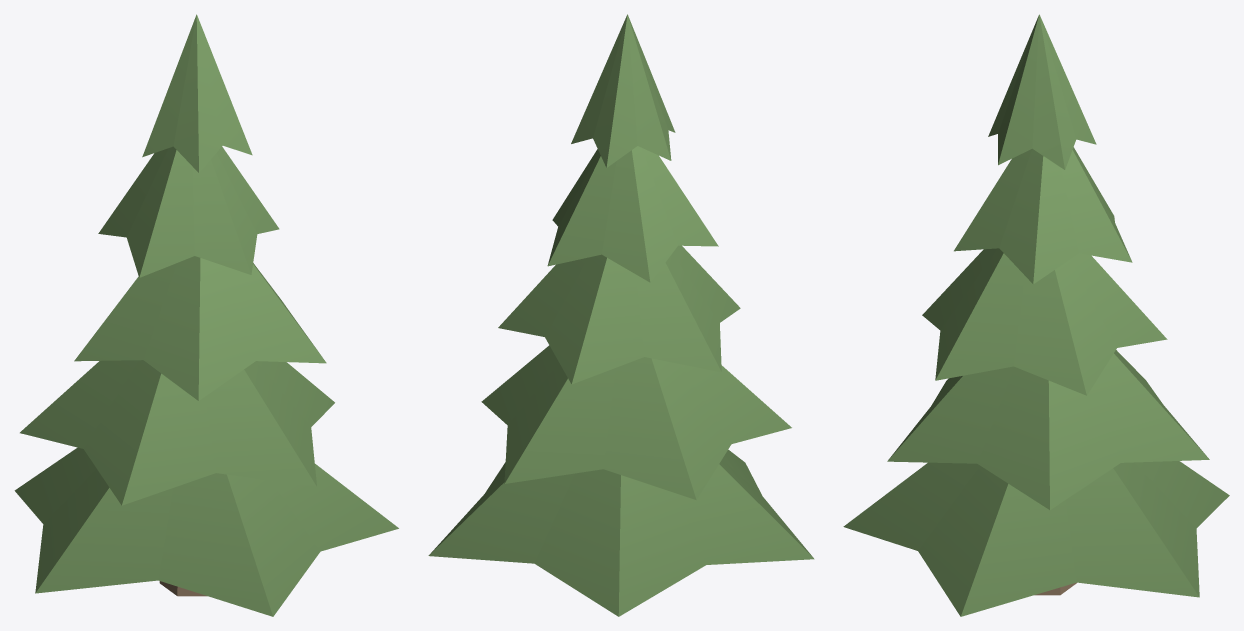
The model's file is tree_pine_2.glb.
3 views of the same model, side by side, from view 1: azimuth 30°, elevation 25°; view 2: azimuth 150°, elevation 25°; view 3: azimuth 270°, elevation 25° (orthographic). The views are drawn at different scales.
Visible parts, largest first — view 1: copa; view 2: copa; view 3: copa.
Boxes of the visible parts, box(x1,y1,x2,y2) form: copa: box(14, 14, 398, 616); copa: box(428, 14, 814, 616); copa: box(843, 14, 1229, 616).
Bounding box in the file's own units: 1.66 × 2.66 × 1.64.
